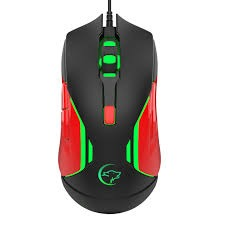mouse: (52, 9, 164, 220)
